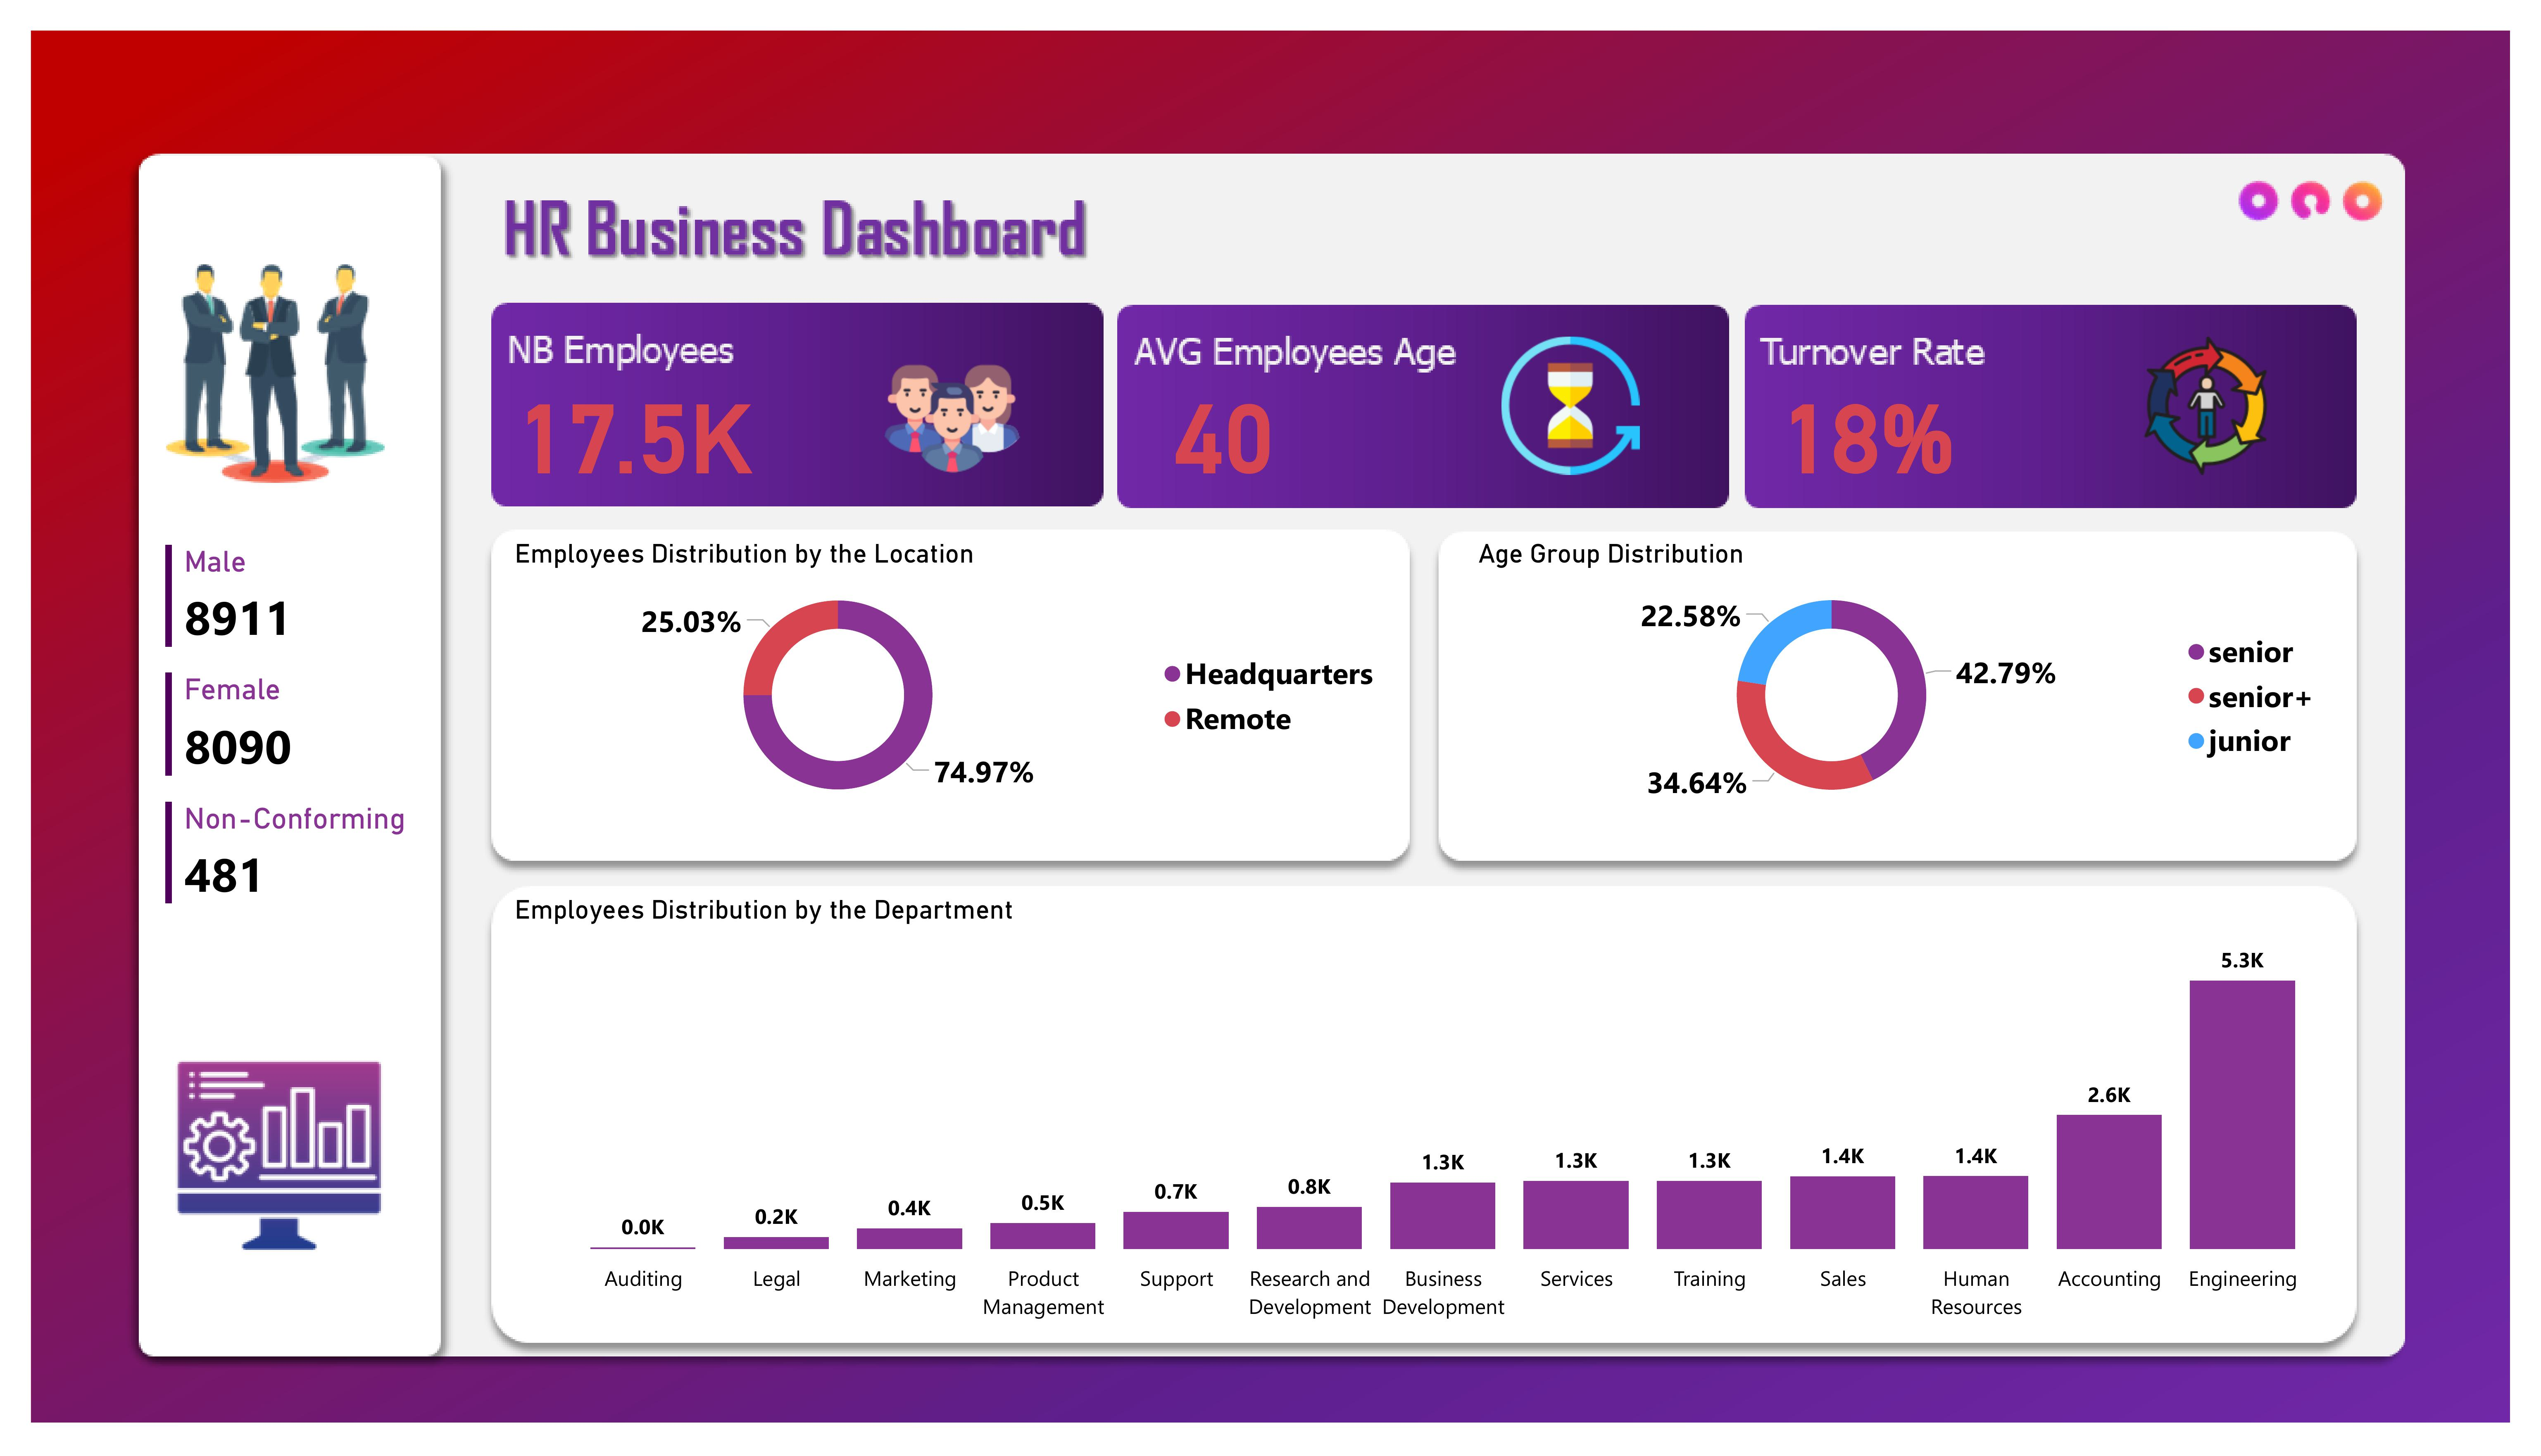

What the dashboard file says about the page in this screenshot:
{"tool":"powerbi","page":{"name":"Page 1","canvas":[1920,1080],"ordinal":0},"visuals":[{"type":"card","fields":{"Values":["Sum(01 KPI TOTAL NUMBER OF ACTIVE EMPLOYEES.total_active_employees)"]},"box":[370.5,251.1,193.5,109.1],"z":0},{"type":"card","fields":{"Values":["Sum(03 KPI AVERAGE AGE OF WORKFORCE.avg_age_employees)"]},"box":[827.4,251.1,193.5,109.1],"z":1000},{"type":"card","fields":{"Values":["Sum(04 KPI TURNOVER RATE.turnover_rate)"]},"box":[1325.6,251.1,193.5,109.1],"z":2000},{"type":"multiRowCard","fields":{"Values":["02 KPI GENDER DISTRIBUTION OF ACTIVE EMPLOYEES.gender","Sum(02 KPI GENDER DISTRIBUTION OF ACTIVE EMPLOYEES.gender_distribution)"]},"box":[98.8,393.1,214.1,327.3],"z":3000},{"type":"donutChart","title":"Age Group Distribution ","fields":{"Category":["Barchart Employee Distribution by Age Groups.group_age"],"Y":["Sum(Barchart Employee Distribution by Age Groups.Group_Count)"]},"box":[1115.6,393.1,666.9,220.2],"z":4000},{"type":"donutChart","title":"Employees Distribution by the Location","fields":{"Category":["Pie chart Work Location Breakdown.location"],"Y":["Sum(Pie chart Work Location Breakdown.COUNT(*))"]},"box":[370.5,393.1,683.4,220.2],"z":5000},{"type":"clusteredColumnChart","title":"Employees Distribution by the Department","fields":{"Category":["Stucked column Department Headcount.department"],"Y":["Sum(Stucked column Department Headcount.distribution)"]},"box":[370.5,669,1430.5,337.6],"z":6000},{"type":"image","box":[1626.1,230.5,117.3,119.4],"z":7000},{"type":"image","box":[654.5,240.8,117.3,119.4],"z":8000},{"type":"image","box":[1134.1,230.5,117.3,119.4],"z":9000}]}

Visuals, with their boxes on the page's 1920x1080 design canvas (x1, y1, x2, y2). These are canvas units, not pixel positions in the 2541x1456 screenshot, which may show the page scaled, cropped or inside an application window:
card - Sum(01 KPI TOTAL NUMBER OF ACTIVE EMPLOYEES.total_active_employees): (370,251,564,360)
card - Sum(03 KPI AVERAGE AGE OF WORKFORCE.avg_age_employees): (827,251,1021,360)
card - Sum(04 KPI TURNOVER RATE.turnover_rate): (1326,251,1519,360)
multiRowCard - 02 KPI GENDER DISTRIBUTION OF ACTIVE EMPLOYEES.gender x Sum(02 KPI GENDER DISTRIBUTION OF ACTIVE EMPLOYEES.gender_distribution): (99,393,313,720)
"Age Group Distribution " donutChart: (1116,393,1782,613)
"Employees Distribution by the Location" donutChart: (370,393,1054,613)
"Employees Distribution by the Department" clusteredColumnChart: (370,669,1801,1007)
image: (1626,230,1743,350)
image: (654,241,772,360)
image: (1134,230,1251,350)
